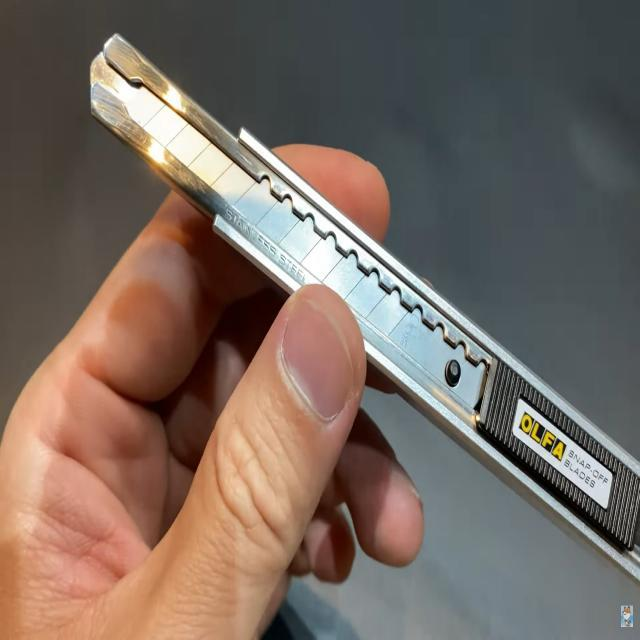cutter: (82, 29, 640, 580)
